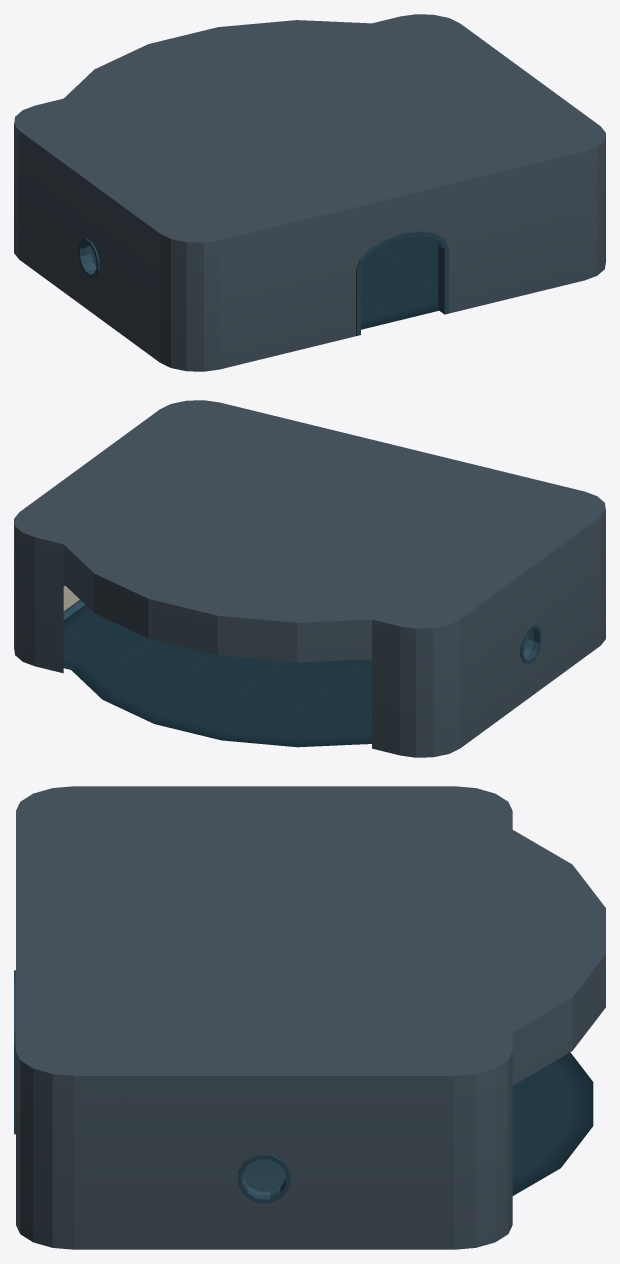
File: sala_ponte.glb
3 views of the same model, one above another, from view 1: azimuth 30°, elevation 25°; view 2: azimuth 150°, elevation 25°; view 3: azimuth 270°, elevation 25° (orthographic). The views are drawn at different scales.
Visible parts, largest first — view 1: casco, paredes; view 2: casco, paredes; view 3: casco, paredes.
Part boxes in pixels (x1,y1,x2,y2): casco: (14,14,605,371); paredes: (78,231,448,335); casco: (14,400,605,757); paredes: (63,585,541,747); casco: (16,786,605,1249); paredes: (14,970,593,1203).
Bounding box in the file's own units: 14.64 × 4.07 × 12.56.
